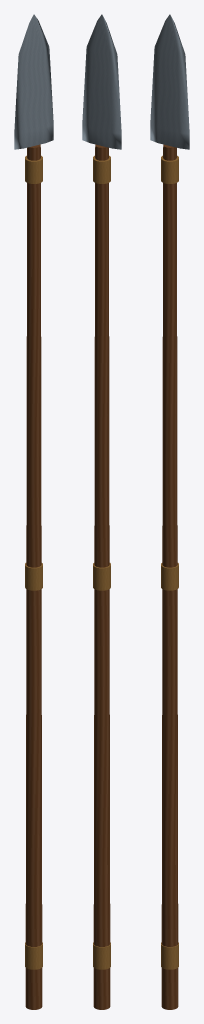
The model's file is war-lance.glb.
The picture shows the model from 3 angles, left to right: view 1: azimuth 30°, elevation 25°; view 2: azimuth 150°, elevation 25°; view 3: azimuth 330°, elevation 25°; orthographic projection.
Visible parts, largest first — view 1: wood.0, blade, brass.3, brass.2, brass.1; view 2: wood.0, blade, brass.3, brass.2, brass.1; view 3: wood.0, blade, brass.3, brass.2, brass.1.
Part boxes in pixels (x1=…): wood.0: x1=25, y1=144, x2=42, y2=1009; blade: x1=14, y1=14, x2=53, y2=149; brass.3: x1=25, y1=155, x2=42, y2=183; brass.2: x1=25, y1=563, x2=42, y2=590; brass.1: x1=25, y1=942, x2=42, y2=969; wood.0: x1=93, y1=144, x2=110, y2=1009; blade: x1=82, y1=14, x2=121, y2=149; brass.3: x1=93, y1=155, x2=110, y2=183; brass.2: x1=93, y1=563, x2=110, y2=590; brass.1: x1=93, y1=942, x2=110, y2=969; wood.0: x1=161, y1=144, x2=178, y2=1009; blade: x1=150, y1=14, x2=189, y2=149; brass.3: x1=161, y1=155, x2=178, y2=183; brass.2: x1=161, y1=563, x2=178, y2=590; brass.1: x1=161, y1=942, x2=178, y2=969.
Size of the model in its own units: 0.12 by 2.88 by 0.048.
3 materials, 3 textured.
